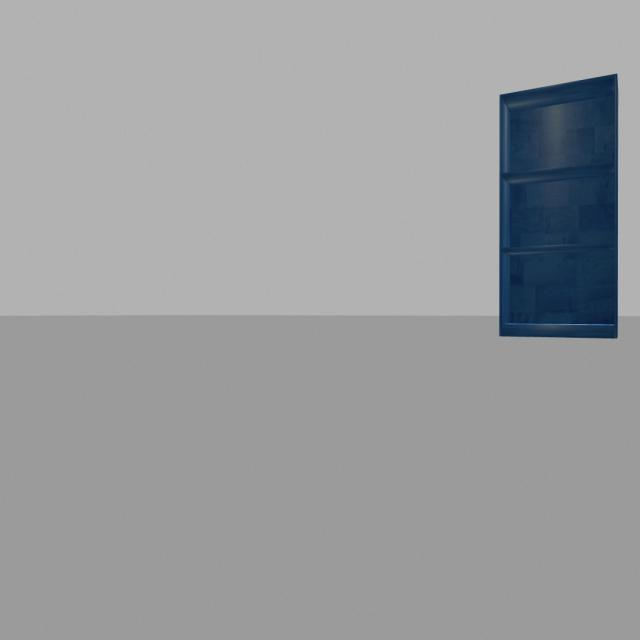shelf: (488, 69, 628, 354)
